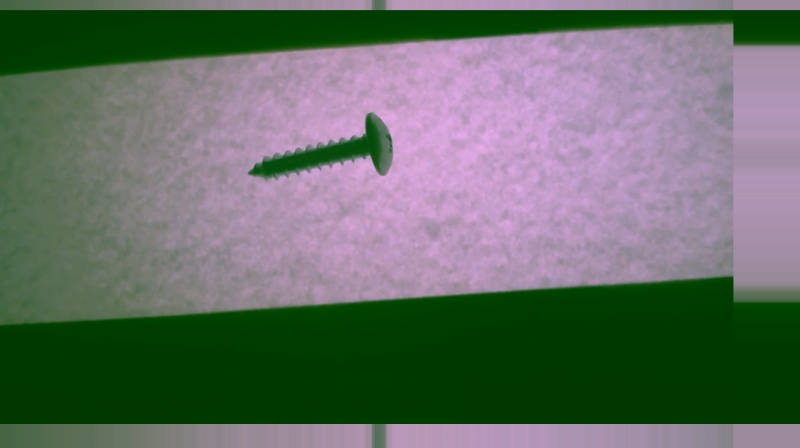S003: (245, 109, 397, 184)
